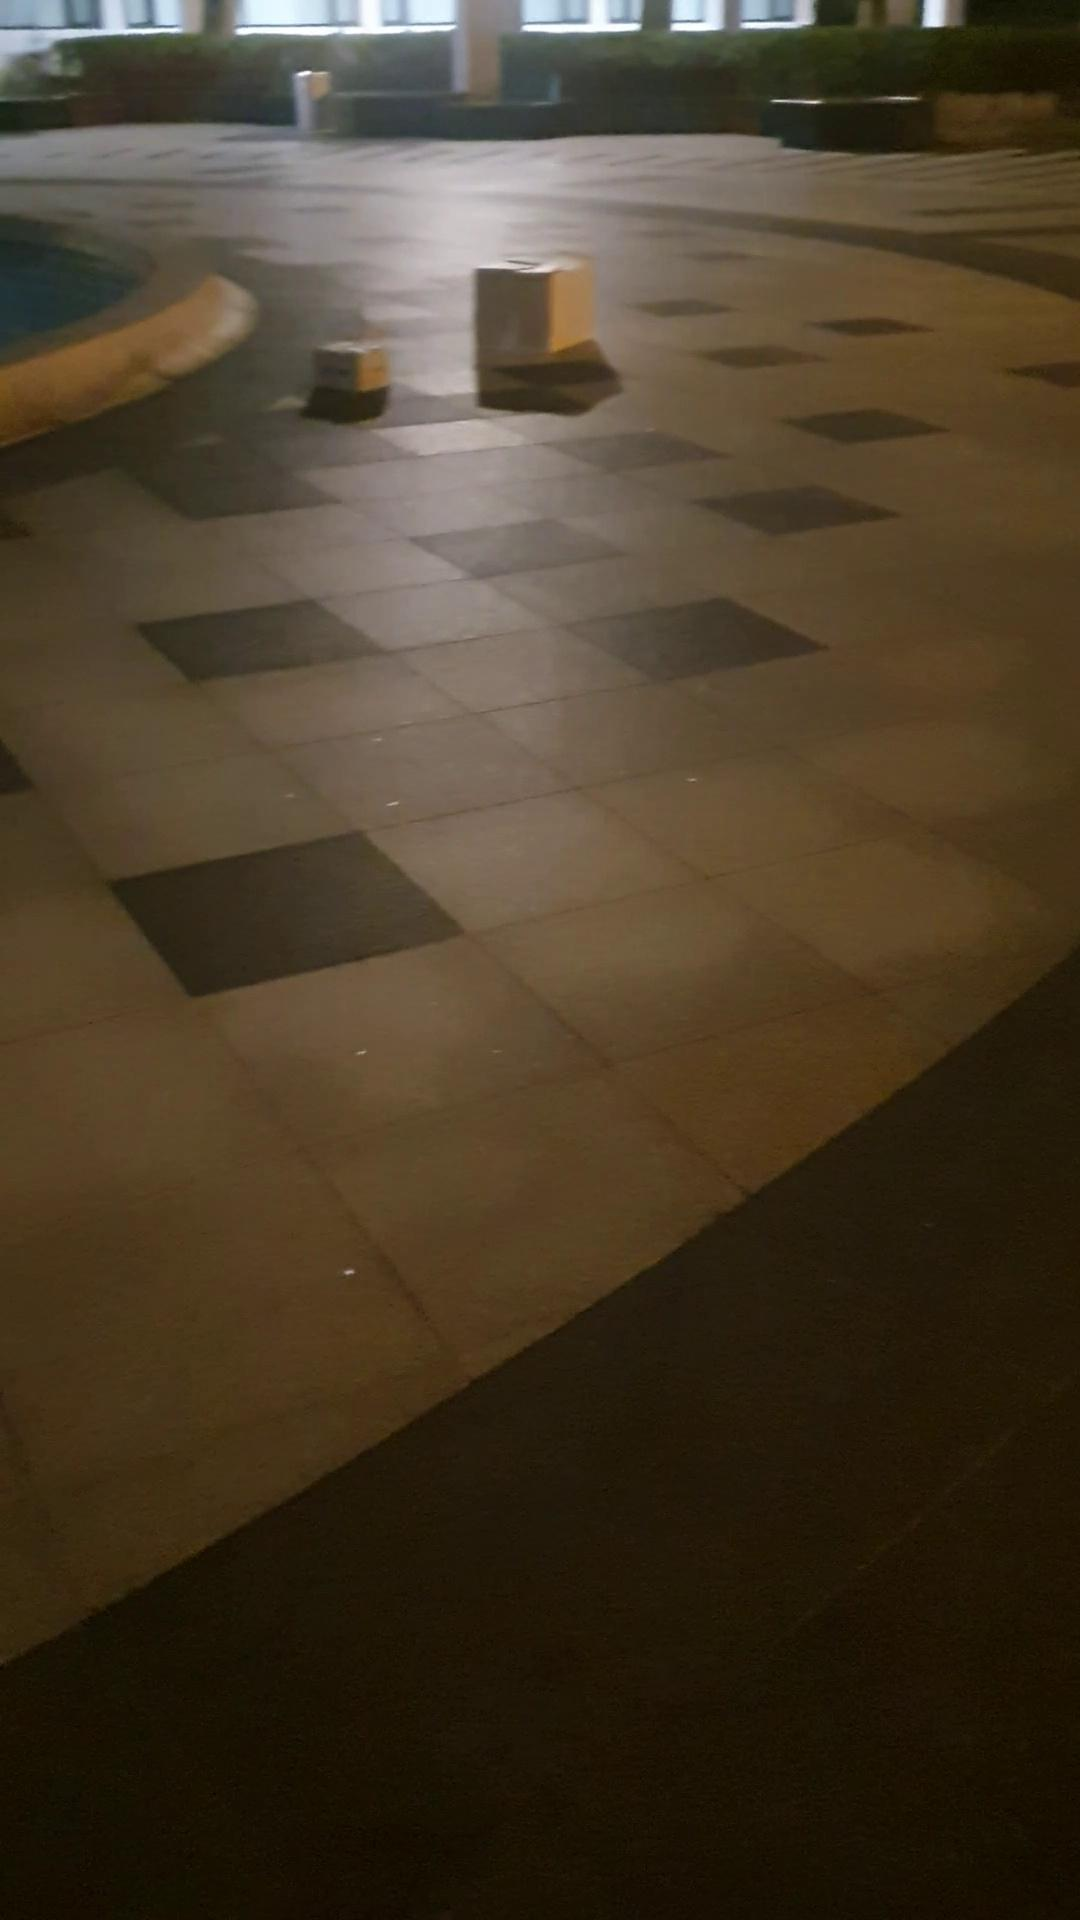Box: (462, 255, 615, 384), (311, 338, 396, 404)
